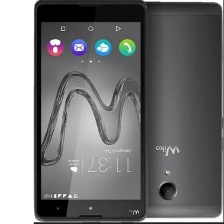phone: (31, 0, 149, 224), (103, 0, 223, 220)
